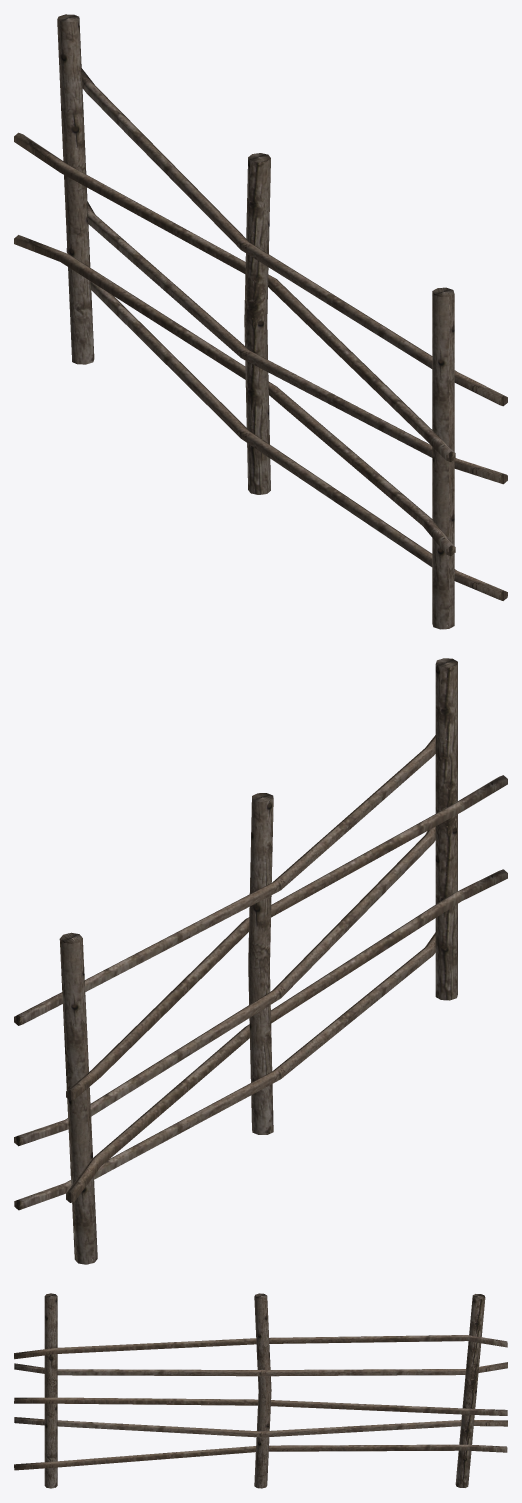
Rendered from fence.fbx.
3 renders of one model, top to bottom at view 1: azimuth 30°, elevation 25°; view 2: azimuth 150°, elevation 25°; view 3: azimuth 270°, elevation 25°, orthographic. The views are drawn at different scales.
Visible parts, largest first — view 1: withe fence; view 2: withe fence; view 3: withe fence.
Boxes of the visible parts, x1=… form: withe fence: x1=14, y1=14, x2=507, y2=629; withe fence: x1=14, y1=658, x2=507, y2=1264; withe fence: x1=14, y1=1293, x2=507, y2=1488.
Bounding box in the file's own units: 5.43 × 28.28 × 66.65.
